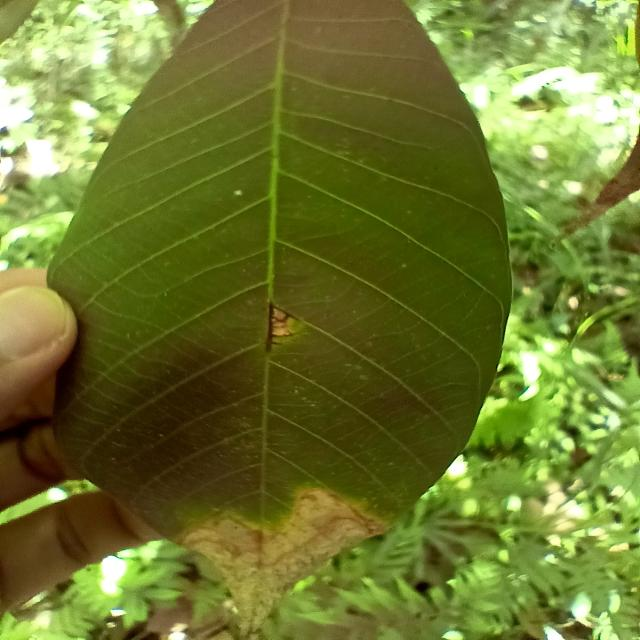Corynespora: (264, 300, 298, 351)
Leaf-Blight: (178, 484, 386, 638)
